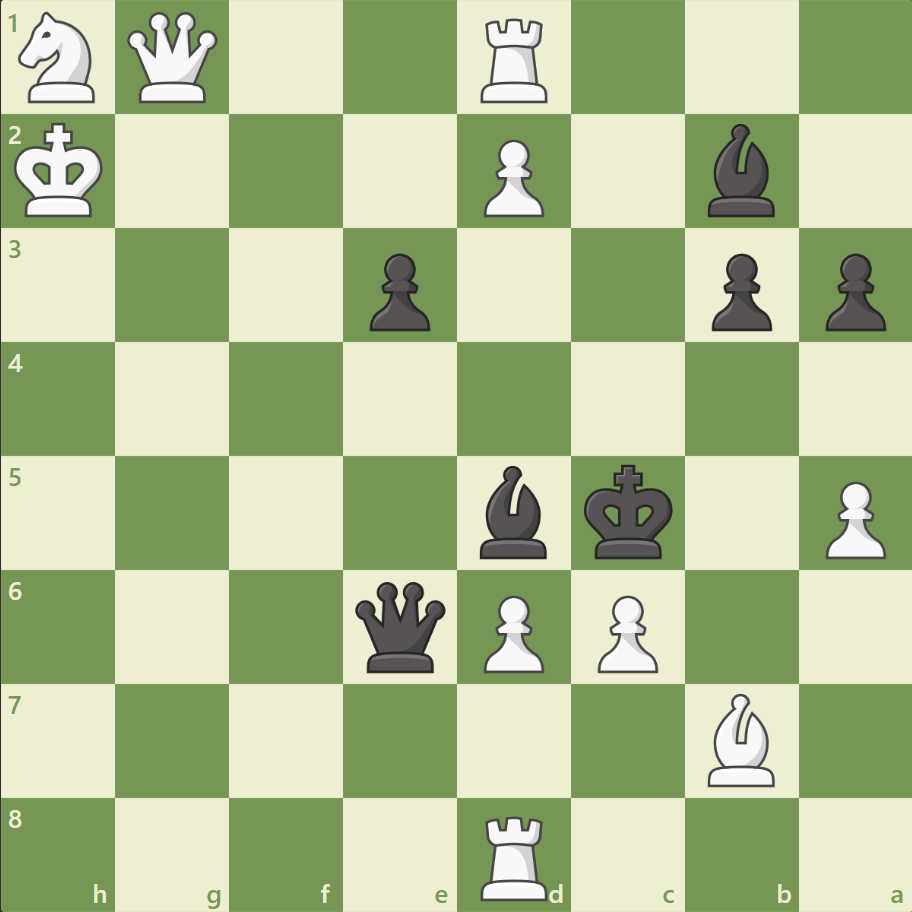B: (698, 687, 782, 790)
K: (11, 117, 111, 225)
N: (11, 7, 108, 110)
P: (474, 586, 549, 677), (474, 132, 549, 223), (588, 586, 662, 677), (815, 473, 889, 564)
Q: (124, 9, 223, 108)
R: (473, 806, 556, 904), (473, 12, 556, 109)
b: (471, 460, 555, 563), (698, 120, 782, 222)
k: (579, 458, 679, 566)
p: (701, 246, 776, 337), (815, 246, 889, 337), (361, 246, 435, 337)
q: (351, 576, 450, 676)
